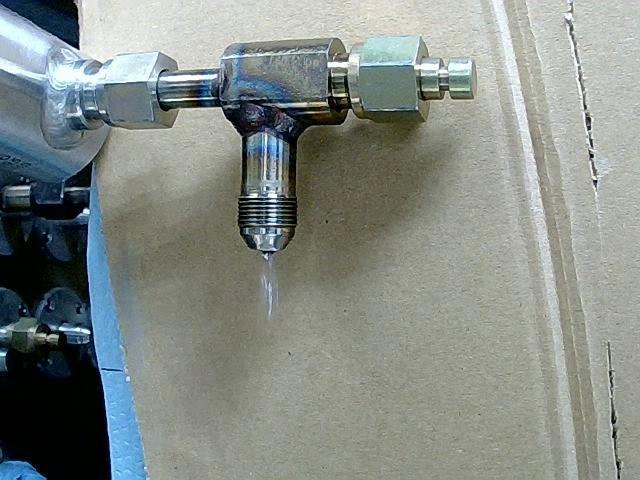water drop: (262, 252, 283, 323)
